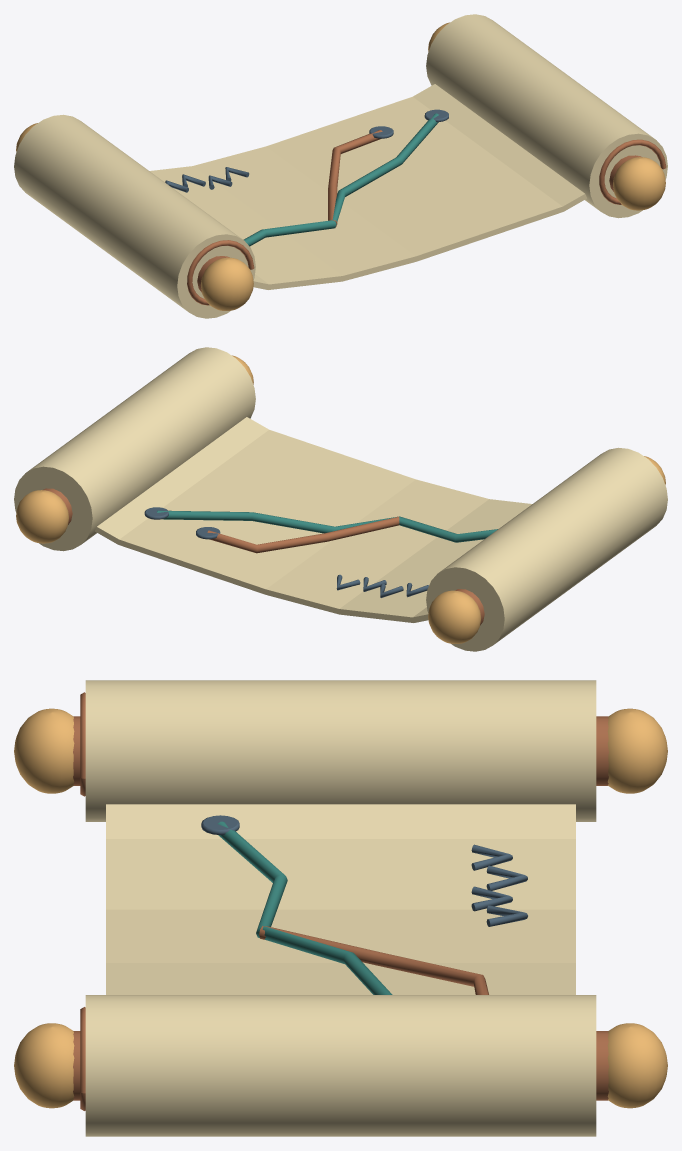
3 renders of one model, top to bottom at view 1: azimuth 30°, elevation 25°; view 2: azimuth 150°, elevation 25°; view 3: azimuth 270°, elevation 25°, orthographic. The views are drawn at different scales.
Parts seen in each view (by area): view 1: PR146 enamel and hardware; view 2: PR146 enamel and hardware; view 3: PR146 enamel and hardware.
Part boxes in pixels (<box>): PR146 enamel and hardware: <box>14,14,667,318</box>; PR146 enamel and hardware: <box>14,347,667,651</box>; PR146 enamel and hardware: <box>14,680,667,1136</box>.
Size of the model in its own units: 0.4 by 0.0649 by 0.2951.
